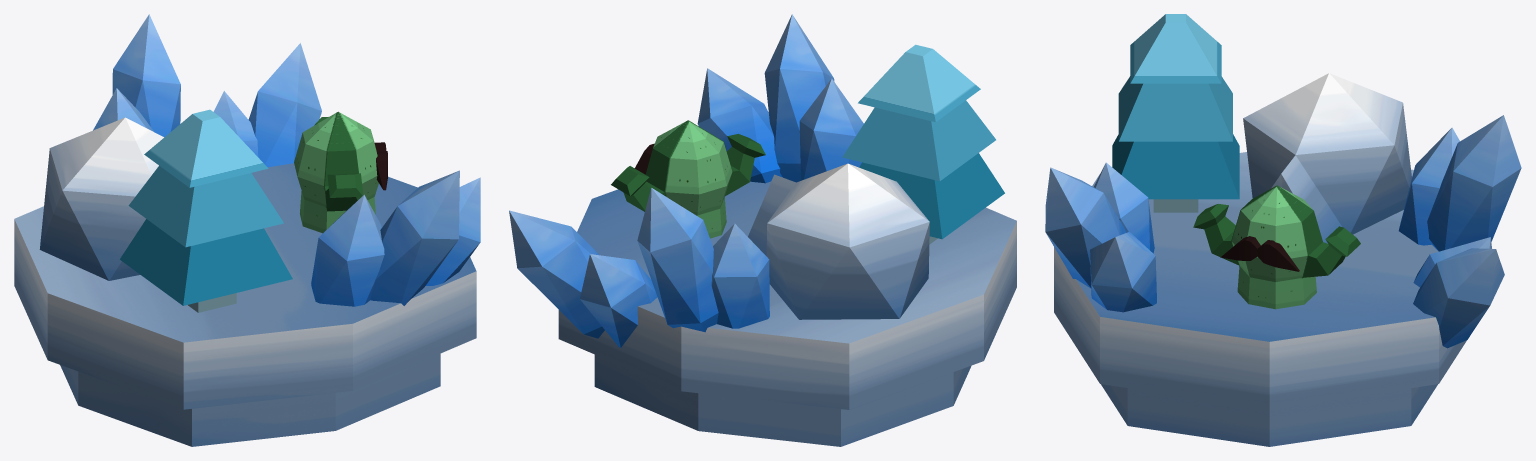
Rendered from L_LEVEL.fbx.
3 views of the same model, side by side, from view 1: azimuth 30°, elevation 25°; view 2: azimuth 150°, elevation 25°; view 3: azimuth 270°, elevation 25° (orthographic).
Parts seen in each view (by area): view 1: Cube.002, Cube.020, Icosphere, Icosphere.003, Cylinder.003, Icosphere.016, Icosphere.020, Icosphere.017, Icosphere.006, Icosphere.019, Icosphere.001, Cube.021; view 2: Cube.002, Icosphere, Cube.020, Cylinder.003, Icosphere.017, Icosphere.020, Icosphere.003, Icosphere.001, Icosphere.019, Icosphere.006, Icosphere.016; view 3: Cube.002, Icosphere, Cube.020, Cylinder.003, Icosphere.017, Icosphere.020, Icosphere.003, Icosphere.006, Icosphere.001, Icosphere.016, Cube.021, Icosphere.019.
Boxes of the visible parts, <box> form: Cube.002: <box>14,163,476,446</box>; Cube.020: <box>120,109,292,312</box>; Icosphere: <box>39,117,163,280</box>; Icosphere.003: <box>370,170,459,305</box>; Cylinder.003: <box>294,111,378,233</box>; Icosphere.016: <box>311,194,384,306</box>; Icosphere.020: <box>248,43,321,167</box>; Icosphere.017: <box>112,14,180,137</box>; Icosphere.006: <box>425,177,480,285</box>; Icosphere.019: <box>213,91,258,156</box>; Icosphere.001: <box>93,88,153,131</box>; Cube.021: <box>374,142,387,190</box>; Cube.002: <box>558,181,1016,446</box>; Icosphere: <box>748,163,929,319</box>; Cube.020: <box>842,44,1004,244</box>; Cylinder.003: <box>611,120,765,238</box>; Icosphere.017: <box>637,188,718,332</box>; Icosphere.020: <box>509,210,604,338</box>; Icosphere.003: <box>764,14,834,182</box>; Icosphere.001: <box>711,223,769,328</box>; Icosphere.019: <box>580,254,657,347</box>; Icosphere.006: <box>697,68,782,183</box>; Icosphere.016: <box>799,78,863,180</box>; Cube.002: <box>1054,152,1466,446</box>; Icosphere: <box>1243,73,1411,243</box>; Cube.020: <box>1112,14,1239,212</box>; Cylinder.003: <box>1193,185,1360,309</box>; Icosphere.017: <box>1427,115,1521,251</box>; Icosphere.020: <box>1413,248,1504,348</box>; Icosphere.003: <box>1045,167,1125,288</box>; Icosphere.006: <box>1090,232,1156,312</box>; Icosphere.001: <box>1398,127,1459,245</box>; Icosphere.016: <box>1094,162,1154,253</box>; Cube.021: <box>1220,236,1299,271</box>; Icosphere.019: <box>1413,237,1491,287</box>.
Size of the model in its own units: 269 by 198 by 280.
Materials: 7 (6 with a texture image).
